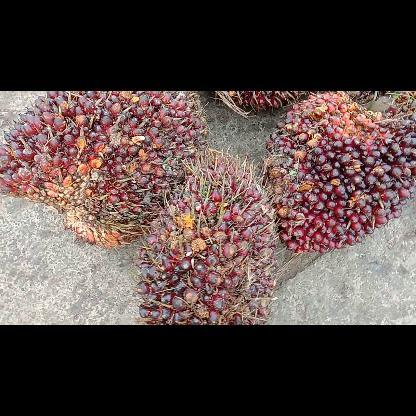Kurang masak: (0, 90, 206, 252), (129, 148, 281, 324), (260, 91, 416, 257)
